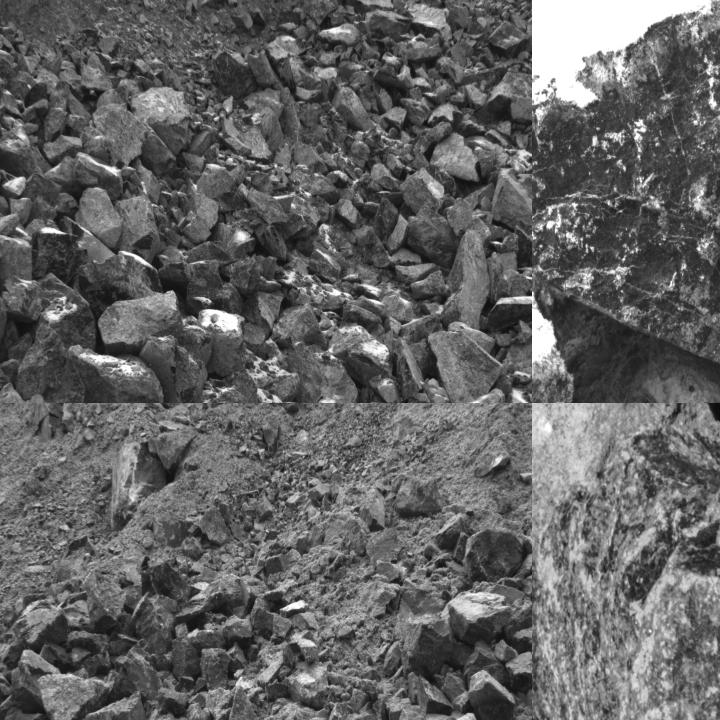stone: (532, 0, 719, 388), (532, 447, 701, 719), (568, 451, 719, 719), (532, 403, 719, 569), (532, 410, 580, 719), (84, 102, 175, 170), (14, 322, 86, 402), (71, 345, 169, 402), (428, 329, 503, 402), (78, 252, 160, 316), (110, 442, 168, 530), (441, 228, 490, 331), (100, 292, 183, 350), (284, 342, 358, 402), (327, 322, 393, 386), (140, 339, 207, 402), (443, 592, 512, 647), (135, 88, 193, 153), (132, 594, 180, 670), (100, 644, 161, 703), (38, 674, 116, 719), (408, 206, 460, 270), (31, 227, 89, 283), (467, 530, 526, 585), (198, 311, 248, 375), (396, 589, 440, 661), (11, 649, 61, 712), (187, 259, 242, 315), (113, 195, 159, 261), (475, 73, 531, 125), (141, 561, 201, 609), (75, 187, 123, 246), (12, 600, 66, 651), (177, 578, 242, 620), (407, 620, 453, 678), (393, 0, 454, 41), (469, 670, 516, 719), (73, 152, 123, 198), (493, 171, 531, 230), (434, 136, 480, 182), (401, 168, 444, 216), (23, 168, 64, 218), (214, 50, 256, 98), (394, 476, 445, 514), (88, 581, 126, 632), (484, 296, 531, 333), (78, 694, 146, 719), (291, 662, 327, 708), (357, 10, 412, 40), (487, 21, 530, 59), (463, 647, 508, 682), (365, 528, 403, 569), (358, 578, 398, 616), (250, 606, 292, 640), (417, 675, 452, 715), (281, 86, 303, 146), (201, 646, 231, 690), (172, 637, 201, 681), (280, 638, 322, 668), (195, 509, 232, 543), (437, 514, 471, 549), (342, 515, 371, 554), (425, 164, 456, 198), (508, 597, 531, 641), (303, 0, 340, 27), (473, 452, 511, 478), (228, 687, 258, 719), (506, 652, 531, 690), (223, 614, 254, 644), (205, 687, 234, 719), (361, 491, 384, 530), (81, 650, 114, 676), (343, 0, 396, 15), (158, 689, 188, 715), (42, 644, 70, 670), (68, 633, 110, 650), (441, 673, 467, 699), (493, 637, 517, 665), (513, 624, 531, 661), (516, 229, 531, 269), (383, 699, 411, 719), (264, 553, 290, 574), (230, 644, 249, 672), (518, 173, 531, 213), (385, 642, 401, 674), (69, 647, 91, 669), (292, 611, 316, 631), (266, 682, 290, 702), (256, 496, 274, 522), (376, 560, 399, 580), (396, 706, 430, 719), (182, 536, 202, 558), (308, 483, 332, 501), (306, 526, 324, 550), (452, 692, 469, 712), (408, 674, 419, 703)
